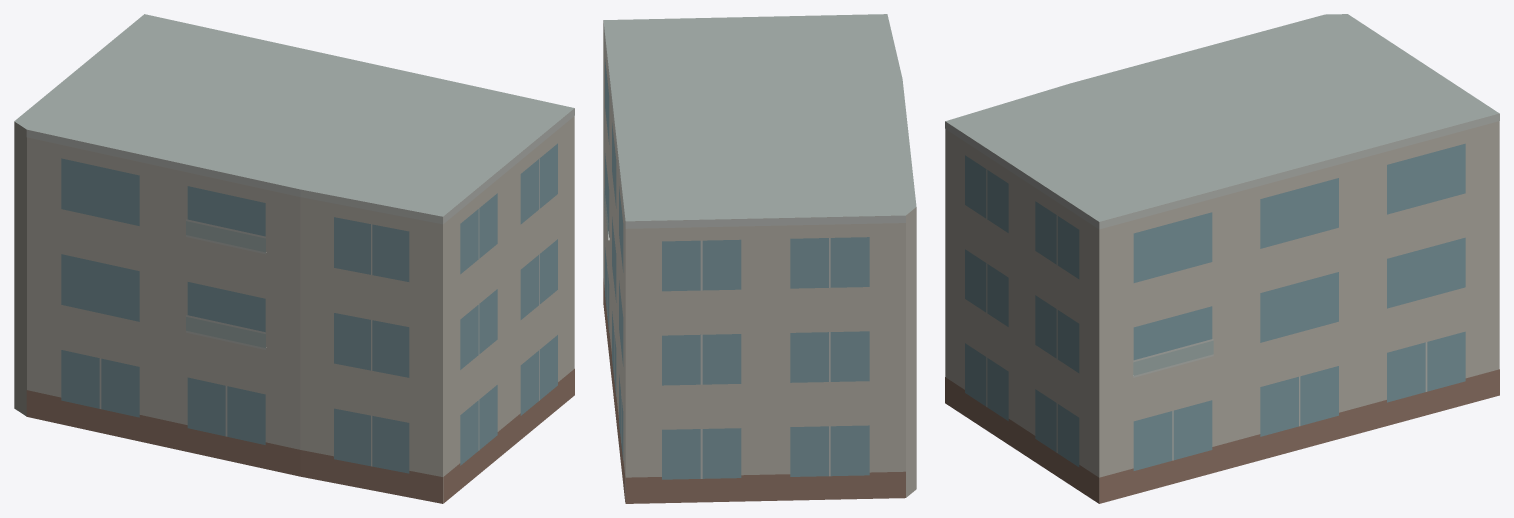
The model's file is survey-upis-32811990.glb.
The picture shows the model from 3 angles, left to right: view 1: azimuth 30°, elevation 25°; view 2: azimuth 150°, elevation 25°; view 3: azimuth 270°, elevation 25°; orthographic projection.
Visible parts, largest first — view 1: survey-upis-32811990.tmp; view 2: survey-upis-32811990.tmp; view 3: survey-upis-32811990.tmp.
Part boxes in pixels (x1,y1,x2,y2): survey-upis-32811990.tmp: [14, 14, 574, 503]; survey-upis-32811990.tmp: [603, 14, 916, 503]; survey-upis-32811990.tmp: [945, 14, 1499, 503].
Size of the model in its own units: 14.48 by 9.15 by 16.32.
